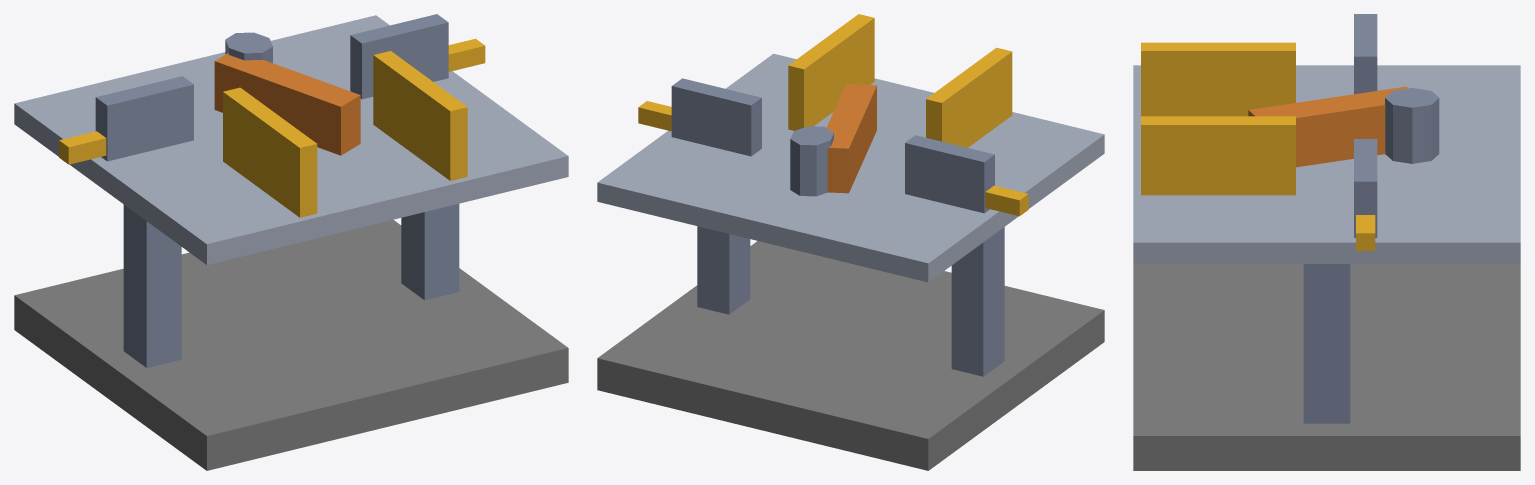
File: diverter.glb
The picture shows the model from 3 angles, left to right: view 1: azimuth 30°, elevation 25°; view 2: azimuth 150°, elevation 25°; view 3: azimuth 270°, elevation 25°; orthographic projection. The views are drawn at different scales.
Visible parts, largest first — view 1: diverter; view 2: diverter; view 3: diverter.
Boxes of the visible parts, left/top/right/bottom form: diverter: left=14, top=14, right=568, bottom=470; diverter: left=597, top=14, right=1104, bottom=470; diverter: left=1133, top=14, right=1520, bottom=470.
Size of the model in its own units: 1.25 by 0.85 by 1.
